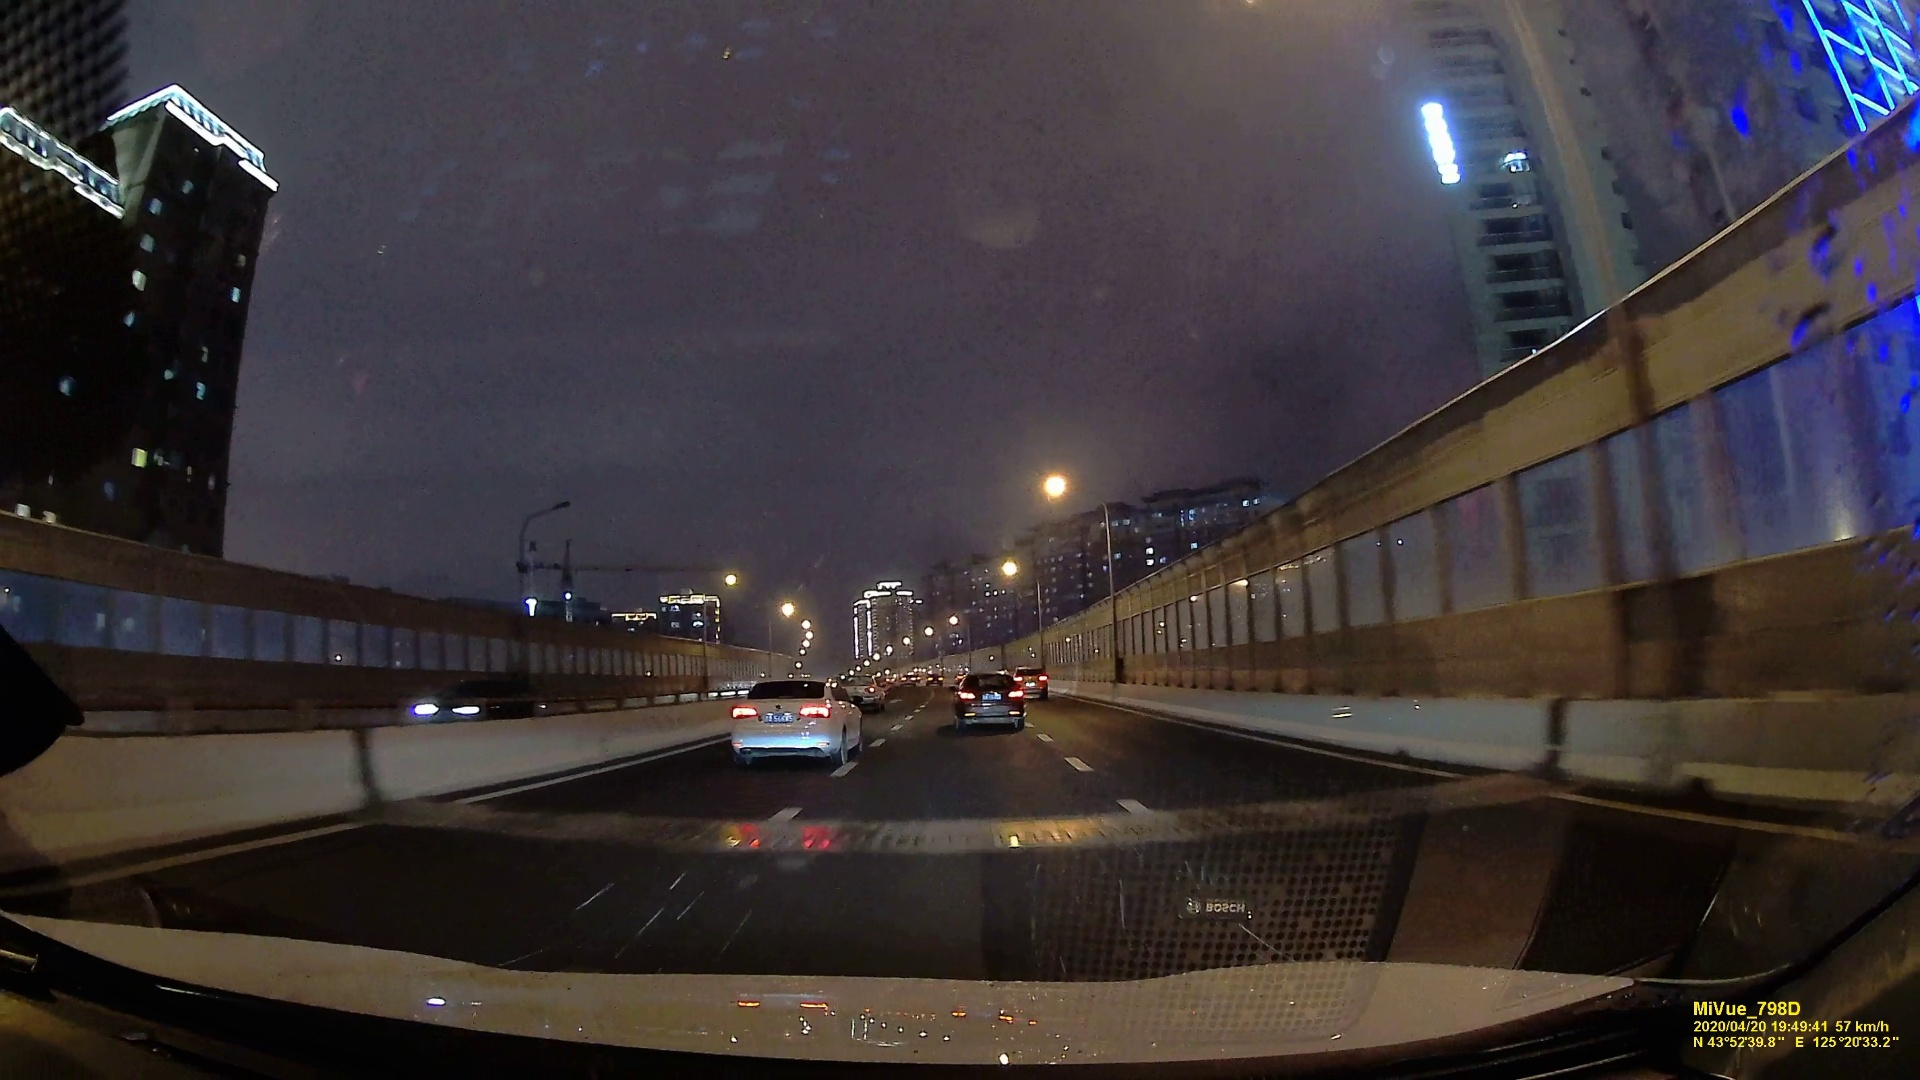vehicle: (727, 673, 864, 773), (404, 675, 541, 720), (949, 670, 1025, 731), (1021, 669, 1050, 698)
